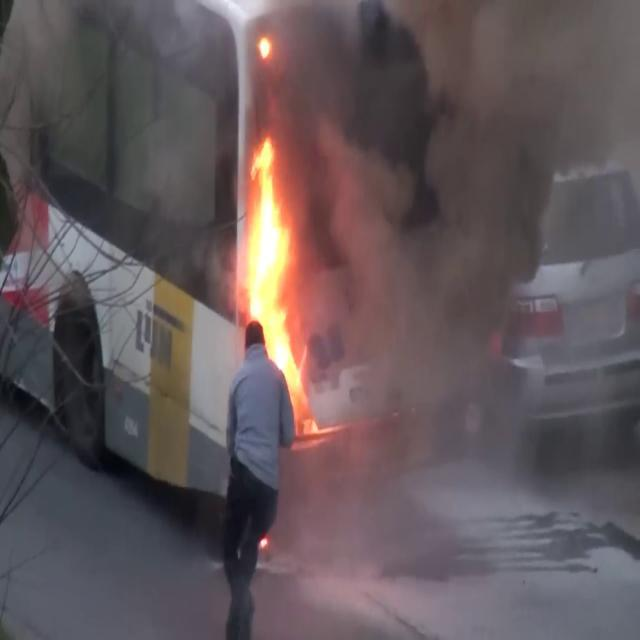Fire: (235, 125, 313, 416)
Smoke: (290, 0, 640, 484), (0, 0, 228, 237)
